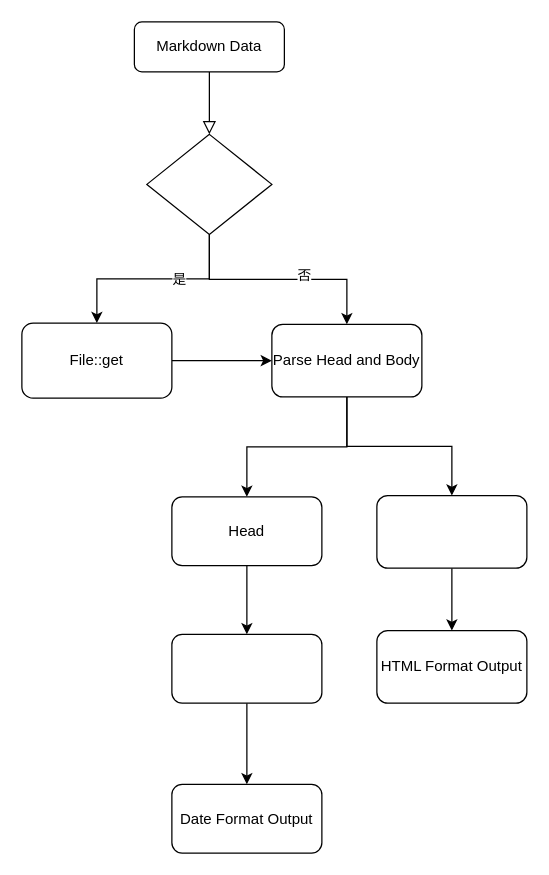
The diagram is 549 pixels wide and 875 high, and some of its shapes have lost their labels. Here are the shapes that lost their labels. From the top down, the centre of each, then its label:
(x=209, y=183): File::exists
(x=451, y=531): Body
(x=246, y=668): Parse By colon
